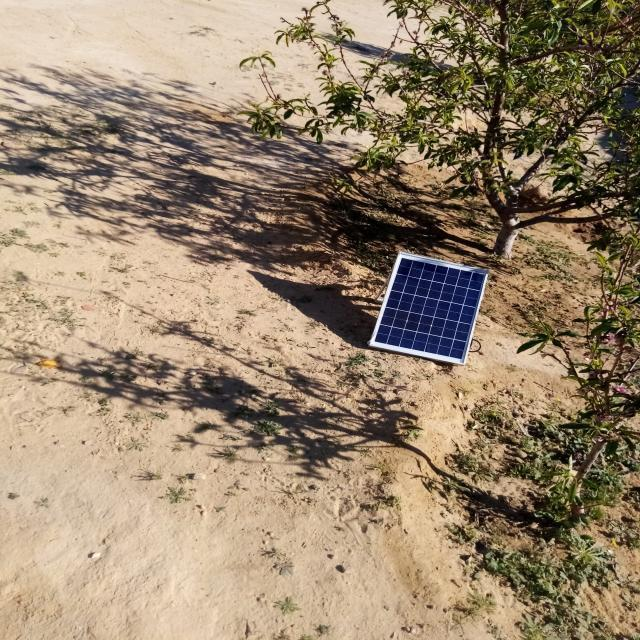Normal Solar Panel: (369, 253, 490, 364)
